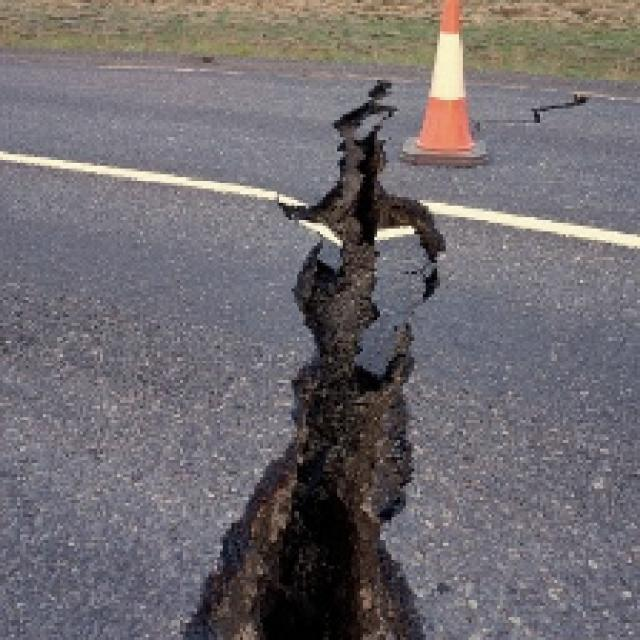cone: (399, 0, 494, 173)
